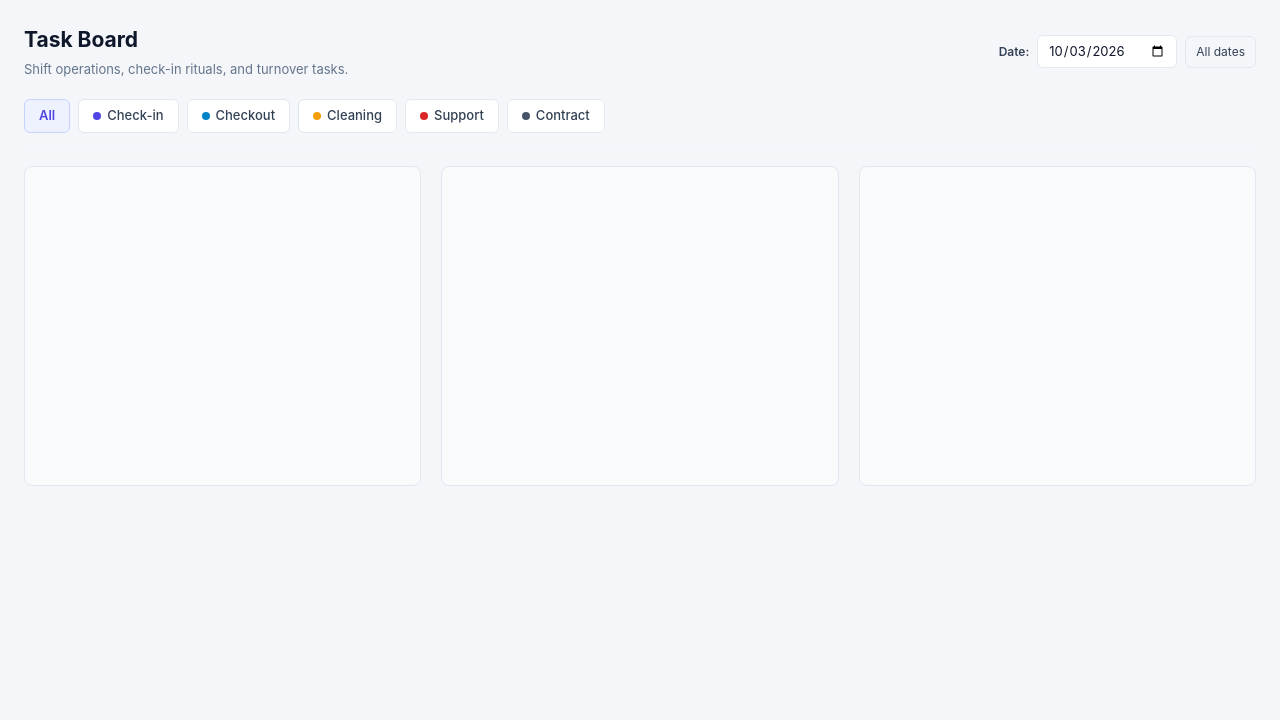
Scenario: Story 6.5: Cleaning hoàn tất từ card + Turnover Buffer › allows completing CLEANING task directly from card when turnover buffer has elapsed (FR-19)
The width and height of the screenshot is (1280, 720).
Click the button with test id "all-dates-btn": coordinates (1221, 52) [1185,36,1256,68]
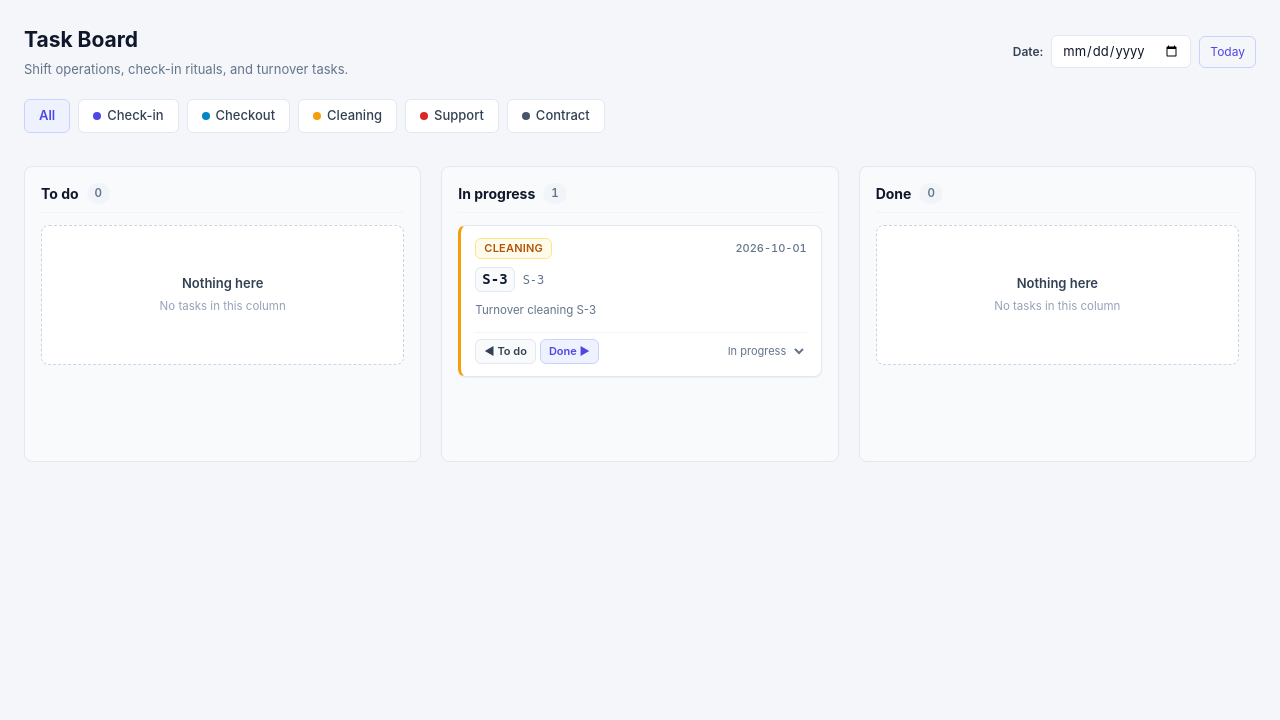
Result: the element with test id "task-card-702" is shown at [458,225,822,377]
Direct card action: click "Done ▶" button directly on card
Click the button with test id "move-right-702": coordinates (569, 351) [540,339,599,364]
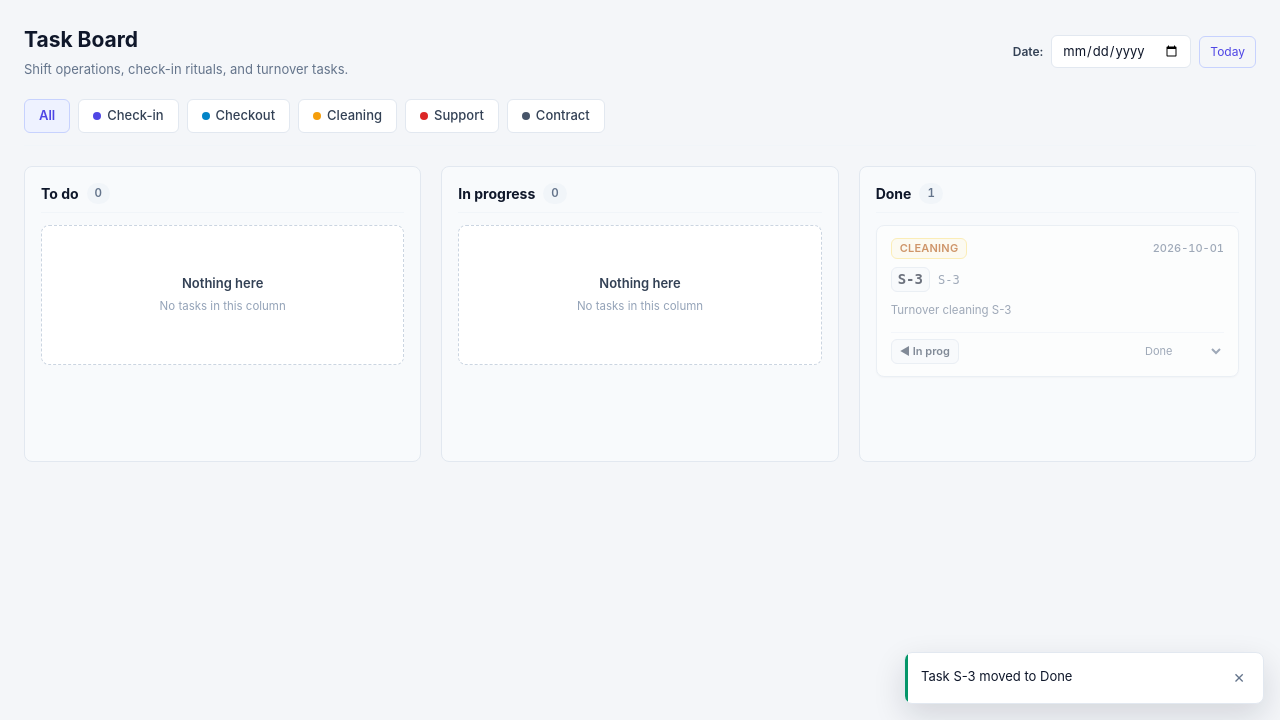
Result: the text with test id "column-count-in_progress" reads "0" at [551,186,559,200]
Result: the text with test id "column-count-done" reads "1" at [927,186,935,200]
Result: the text "Task S-3 moved to Done" is shown at [921,668,1072,684]
